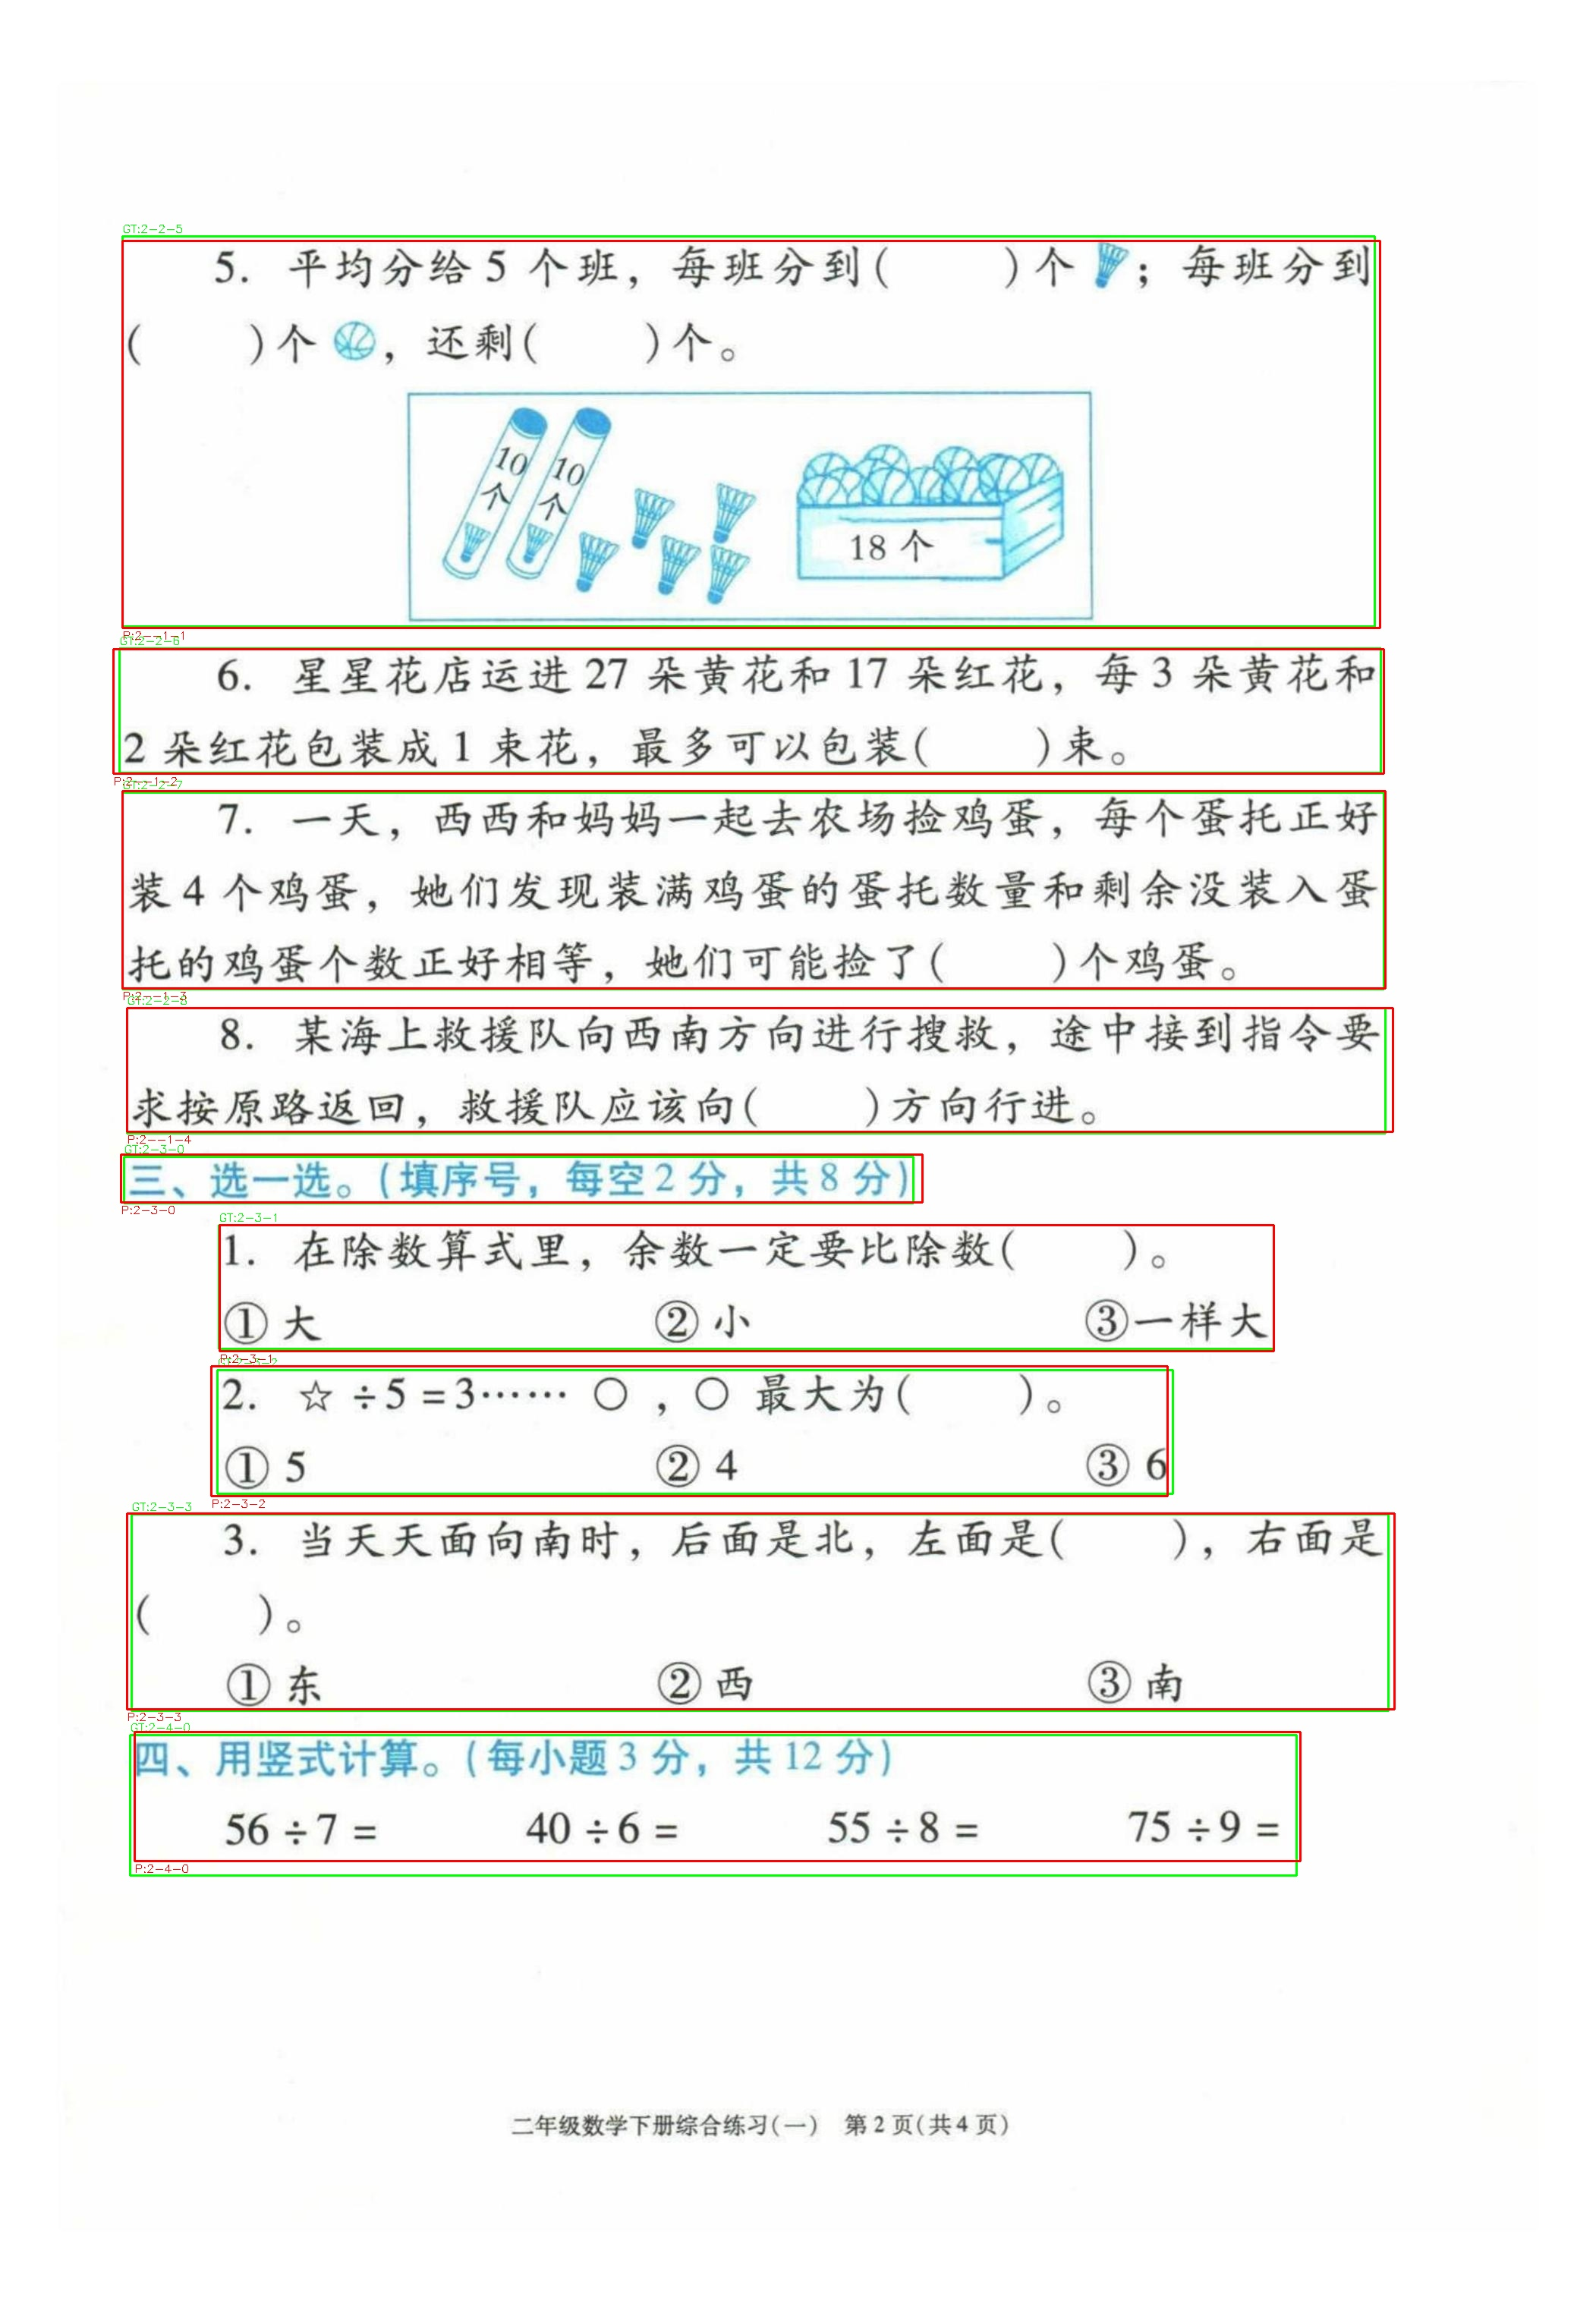2-1-1: (123, 241, 1380, 627)
2-1-2: (112, 649, 1383, 773)
2-1-3: (123, 791, 1385, 988)
2-1-4: (127, 1007, 1392, 1132)
2-3-0: (121, 1155, 923, 1202)
2-3-1: (220, 1225, 1274, 1352)
2-3-2: (211, 1366, 1167, 1496)
2-3-3: (127, 1513, 1394, 1708)
2-4-0: (134, 1731, 1301, 1861)
